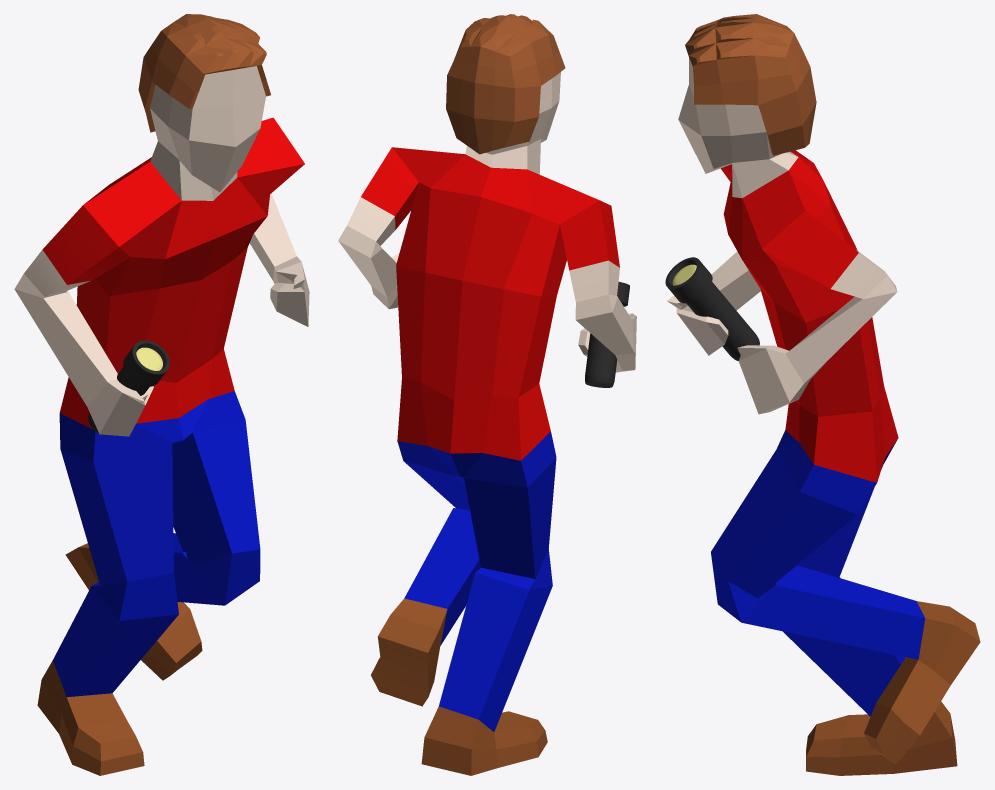
The model's file is Human_running_1.fbx.
3 renders of one model, left to right at view 1: azimuth 30°, elevation 25°; view 2: azimuth 150°, elevation 25°; view 3: azimuth 270°, elevation 25°, orthographic. The views are drawn at different scales.
Visible parts, largest first — view 1: Person.004, Flashlight; view 2: Person.004, Flashlight; view 3: Person.004, Flashlight.
Part boxes in pixels (x1,y1,x2,y2): Person.004: (14,14,309,775); Flashlight: (88,340,169,435); Person.004: (338,14,636,775); Flashlight: (585,281,629,387); Person.004: (667,14,980,775); Flashlight: (665,257,759,360).
Size of the model in its own units: 0.5753 by 1.49 by 0.5546.
